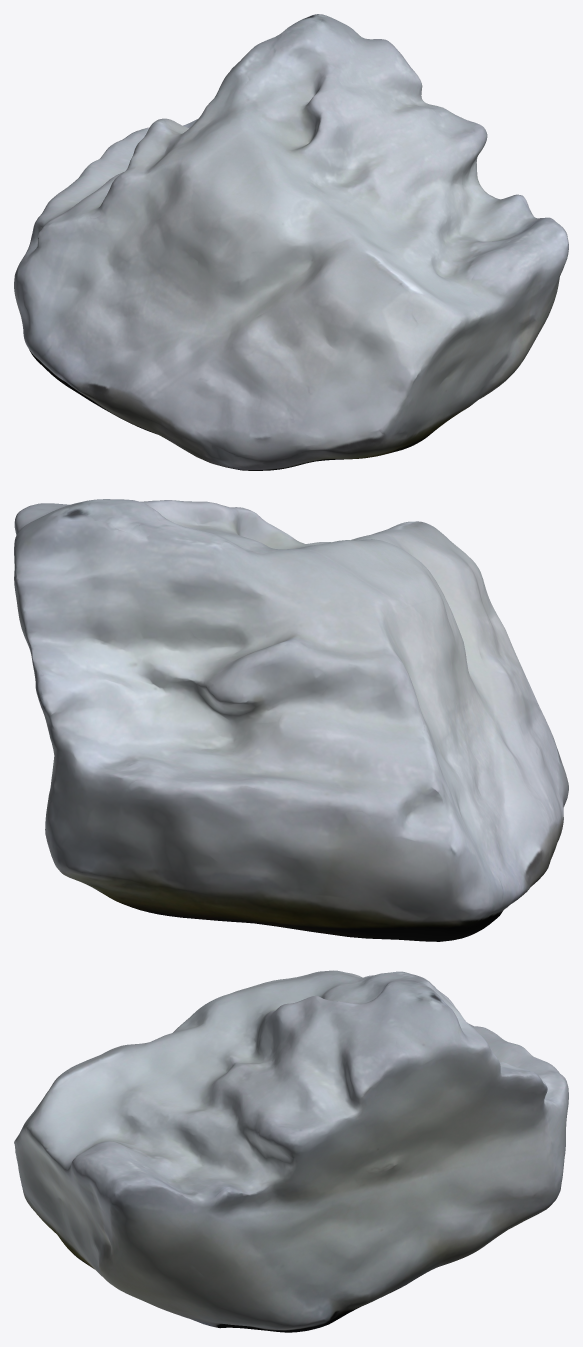
Rendered from baked_mesh.obj.
3 renders of one model, top to bottom at view 1: azimuth 30°, elevation 25°; view 2: azimuth 150°, elevation 25°; view 3: azimuth 270°, elevation 25°, orthographic. The views are drawn at different scales.
Parts seen in each view (by area): view 1: group_0; view 2: group_0; view 3: group_0.
Part boxes in pixels (box(x1,y1,x2,y2)): group_0: box(14, 14, 568, 470); group_0: box(14, 499, 568, 941); group_0: box(14, 970, 568, 1332).
Bounding box in the file's own units: 0.1318 × 0.0964 × 0.1472.
1 material, 1 textured.
